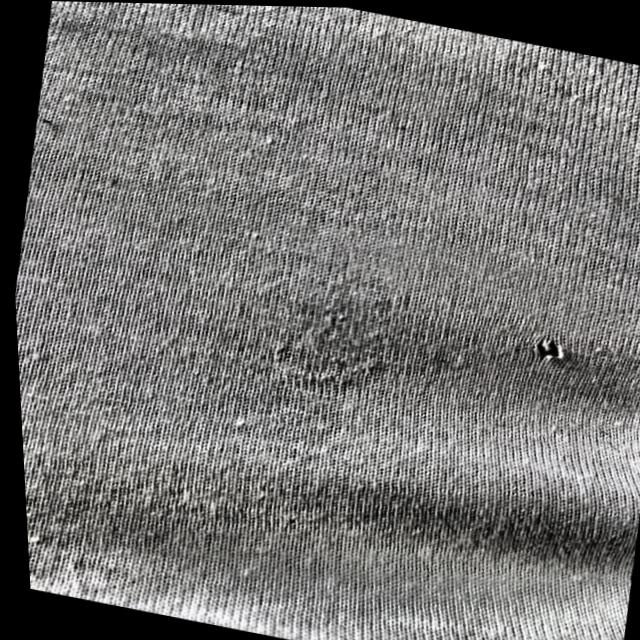Hole: (518, 323, 581, 379)
